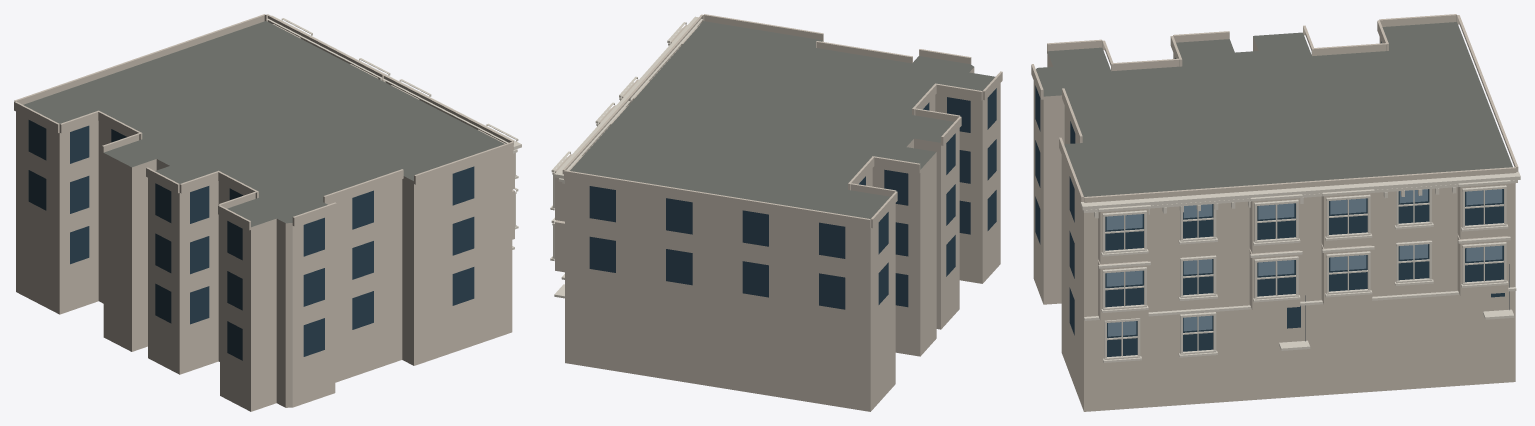
3 views of the same model, side by side, from view 1: azimuth 30°, elevation 25°; view 2: azimuth 150°, elevation 25°; view 3: azimuth 270°, elevation 25° (orthographic). The views are drawn at different scales.
Visible parts, largest first — view 1: Footprint 0 / surface 2, Footprint 0 / surface 1, Inset glazing, Facade bay volumes, Cornices and window frames; view 2: Footprint 0 / surface 2, Footprint 0 / surface 1, Inset glazing, Facade bay volumes, Cornices and window frames; view 3: Footprint 0 / surface 2, Footprint 0 / surface 1, Cornices and window frames, Facade bay volumes, Inset glazing, Sky reflection panels.
Boxes of the visible parts, x1,y1,x2,y2 form: Footprint 0 / surface 2: (16, 111, 512, 411); Footprint 0 / surface 1: (23, 21, 504, 227); Inset glazing: (28, 120, 474, 360); Facade bay volumes: (14, 14, 514, 239); Cornices and window frames: (266, 15, 521, 249); Footprint 0 / surface 2: (565, 41, 1000, 411); Footprint 0 / surface 1: (570, 21, 995, 218); Inset glazing: (589, 88, 996, 309); Facade bay volumes: (555, 14, 1002, 272); Cornices and window frames: (550, 16, 702, 298); Footprint 0 / surface 2: (1033, 37, 1515, 411); Footprint 0 / surface 1: (1036, 22, 1512, 196); Cornices and window frames: (1080, 171, 1520, 362); Facade bay volumes: (1031, 14, 1518, 320); Inset glazing: (1035, 41, 1504, 356); Sky reflection panels: (1106, 189, 1502, 336).
Size of the model in its own units: 20.86 by 10.95 by 22.59.
